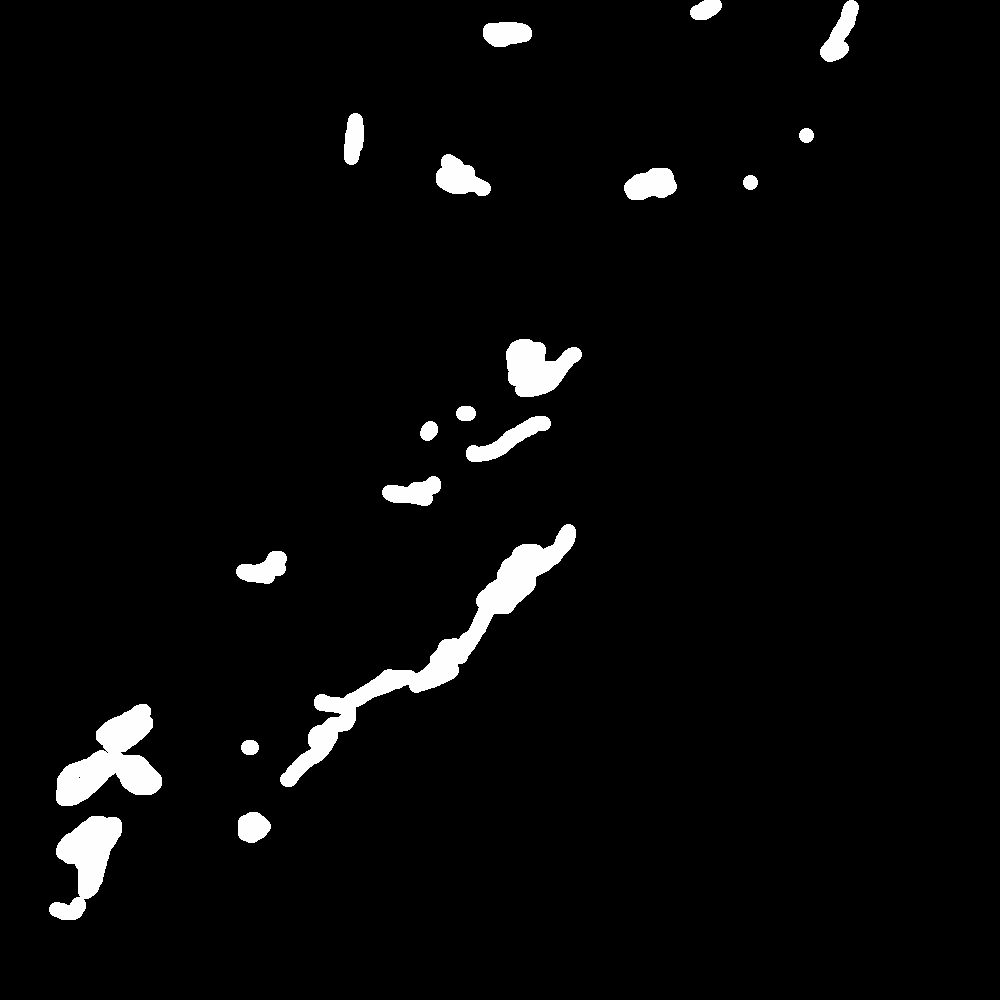illegal: (232, 516, 574, 839), (47, 670, 193, 923), (461, 417, 579, 463), (499, 335, 585, 397), (613, 166, 672, 251), (740, 129, 816, 191), (436, 153, 500, 196), (826, 2, 859, 70), (421, 403, 483, 438), (387, 479, 465, 501), (335, 120, 369, 168), (485, 23, 531, 47), (807, 90, 827, 105)
